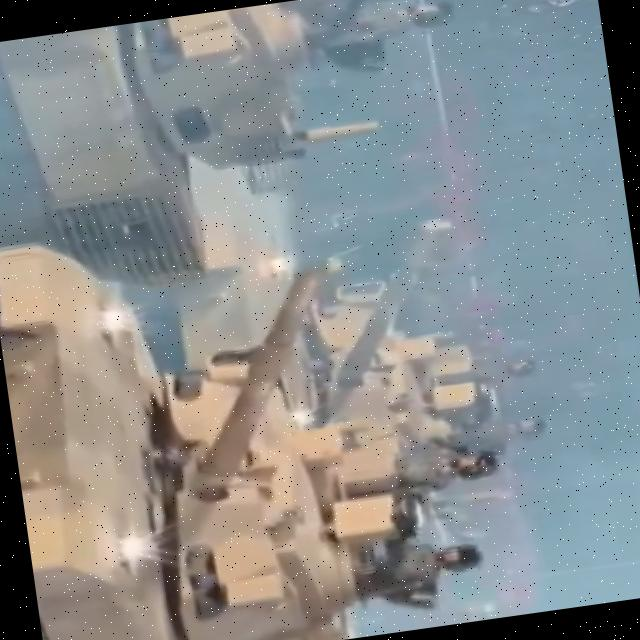north tank: (0, 201, 409, 640), (0, 0, 414, 325), (183, 181, 524, 498)
